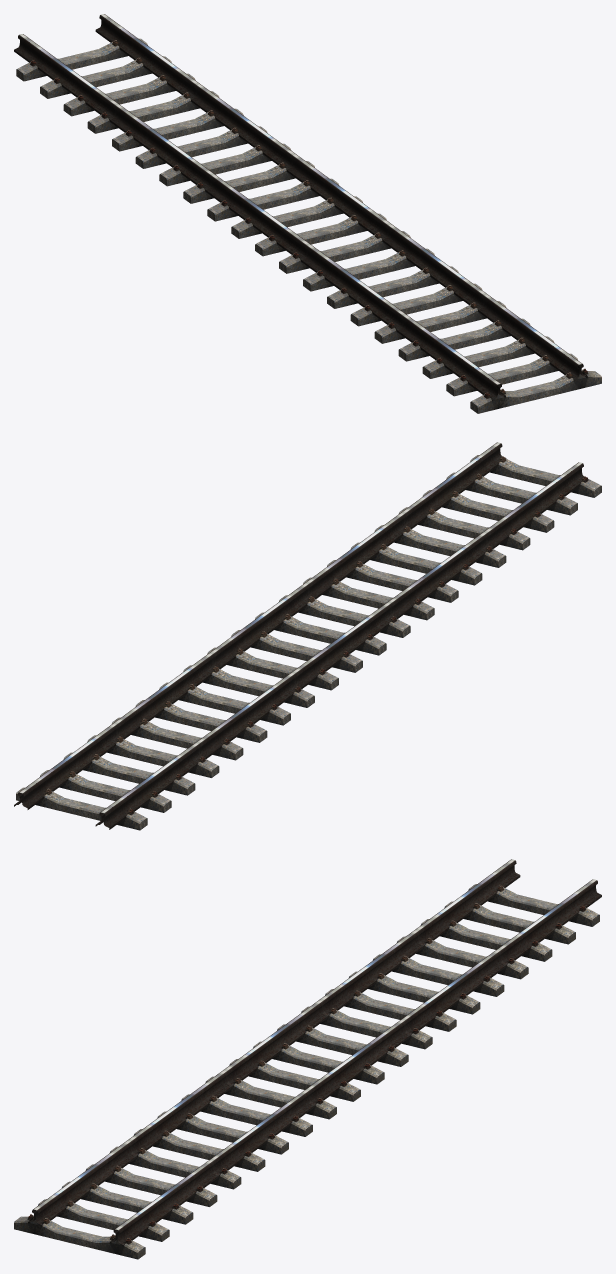
Rendered from Beton_rail_straight.FBX.
The picture shows the model from 3 angles, top to bottom: view 1: azimuth 30°, elevation 25°; view 2: azimuth 150°, elevation 25°; view 3: azimuth 330°, elevation 25°; orthographic projection.
Visible parts, largest first — view 1: Beton_rail_straight_LOD0; view 2: Beton_rail_straight_LOD0; view 3: Beton_rail_straight_LOD0.
Boxes of the visible parts, left/top/right/bottom form: Beton_rail_straight_LOD0: left=14, top=14, right=601, bottom=413; Beton_rail_straight_LOD0: left=14, top=442, right=601, bottom=830; Beton_rail_straight_LOD0: left=14, top=859, right=601, bottom=1259.
Size of what is drawn, in the model's own units: 2.52 by 16.84 by 0.4774.
